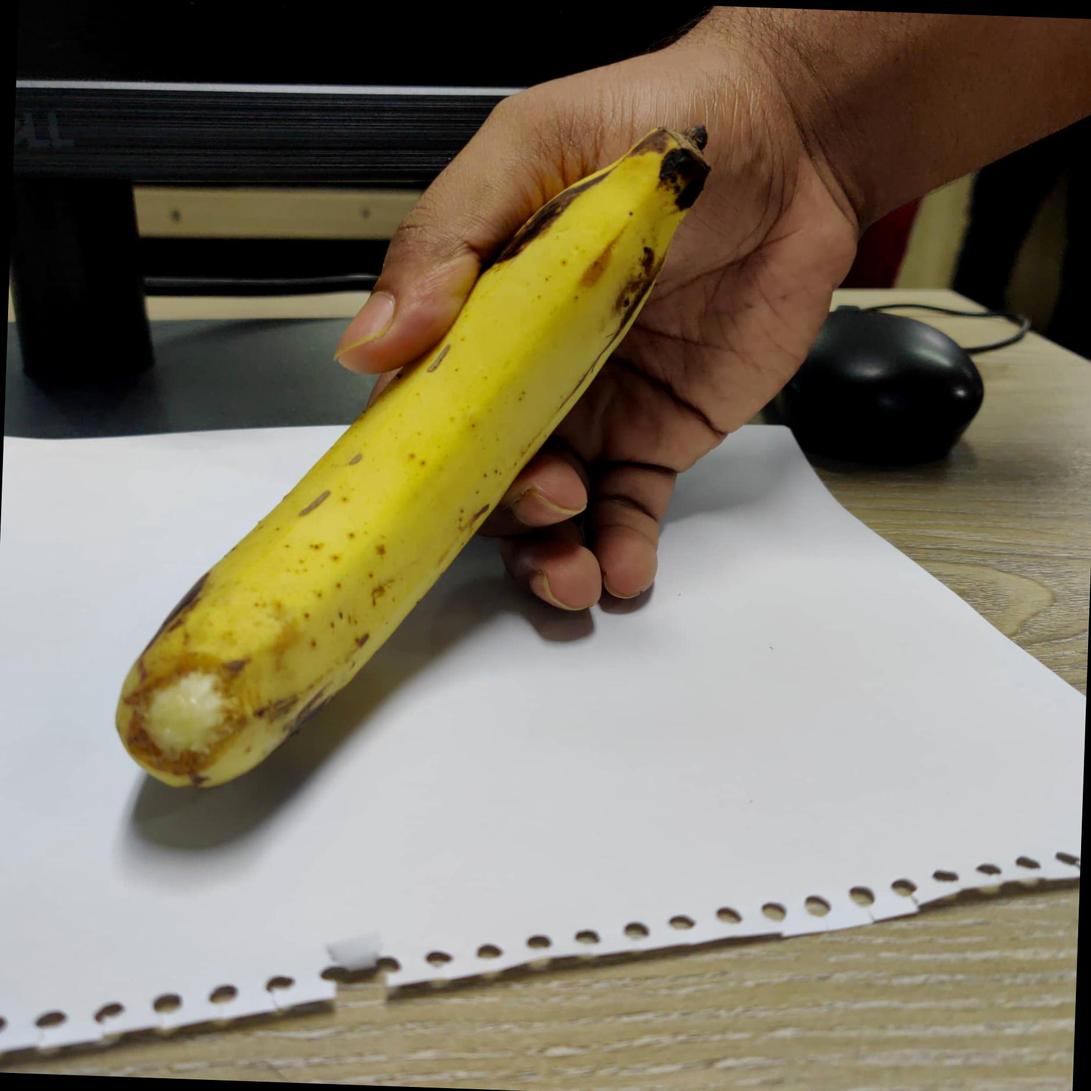Banana Ripe: (62, 83, 749, 859)
